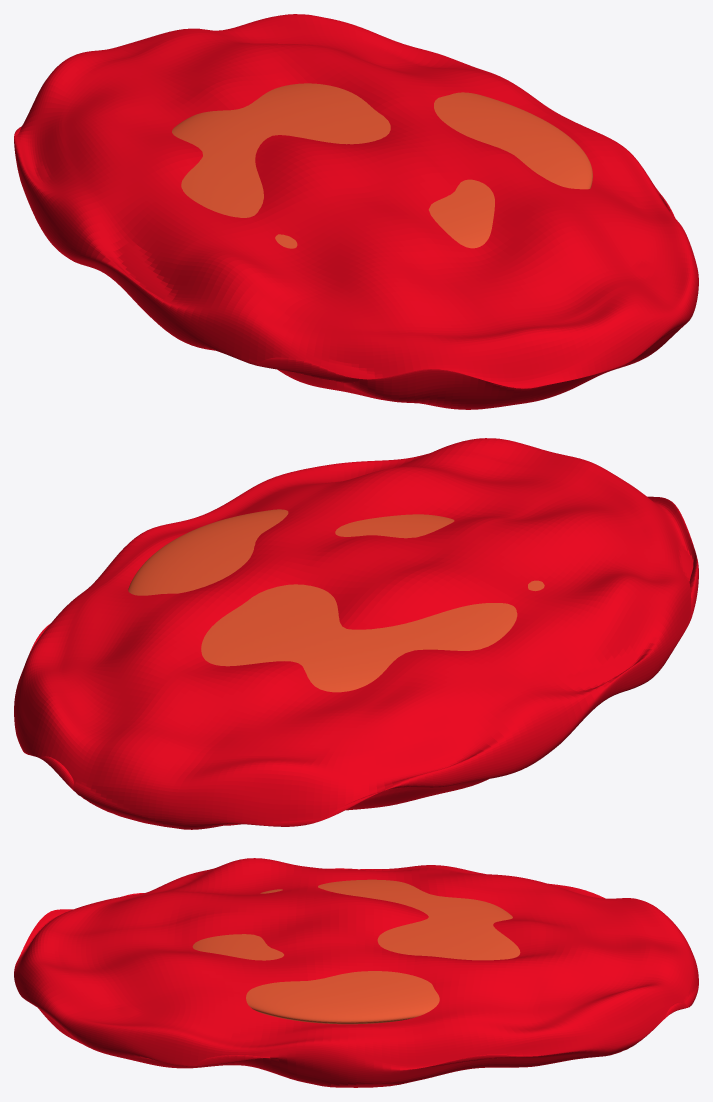
File: lava.fbx
The picture shows the model from 3 angles, top to bottom: view 1: azimuth 30°, elevation 25°; view 2: azimuth 150°, elevation 25°; view 3: azimuth 270°, elevation 25°; orthographic projection. The views are drawn at different scales.
Parts seen in each view (by area): view 1: Cube.003, Cube.002; view 2: Cube.003, Cube.002; view 3: Cube.003, Cube.002.
Part boxes in pixels (x1,y1,x2,y2): Cube.003: (14,14,698,409); Cube.002: (172,83,592,248); Cube.003: (14,438,698,829); Cube.002: (128,509,544,692); Cube.003: (14,858,698,1087); Cube.002: (192,879,520,1024).
Bounding box in the file's own units: 56196 × 14302 × 86074.
